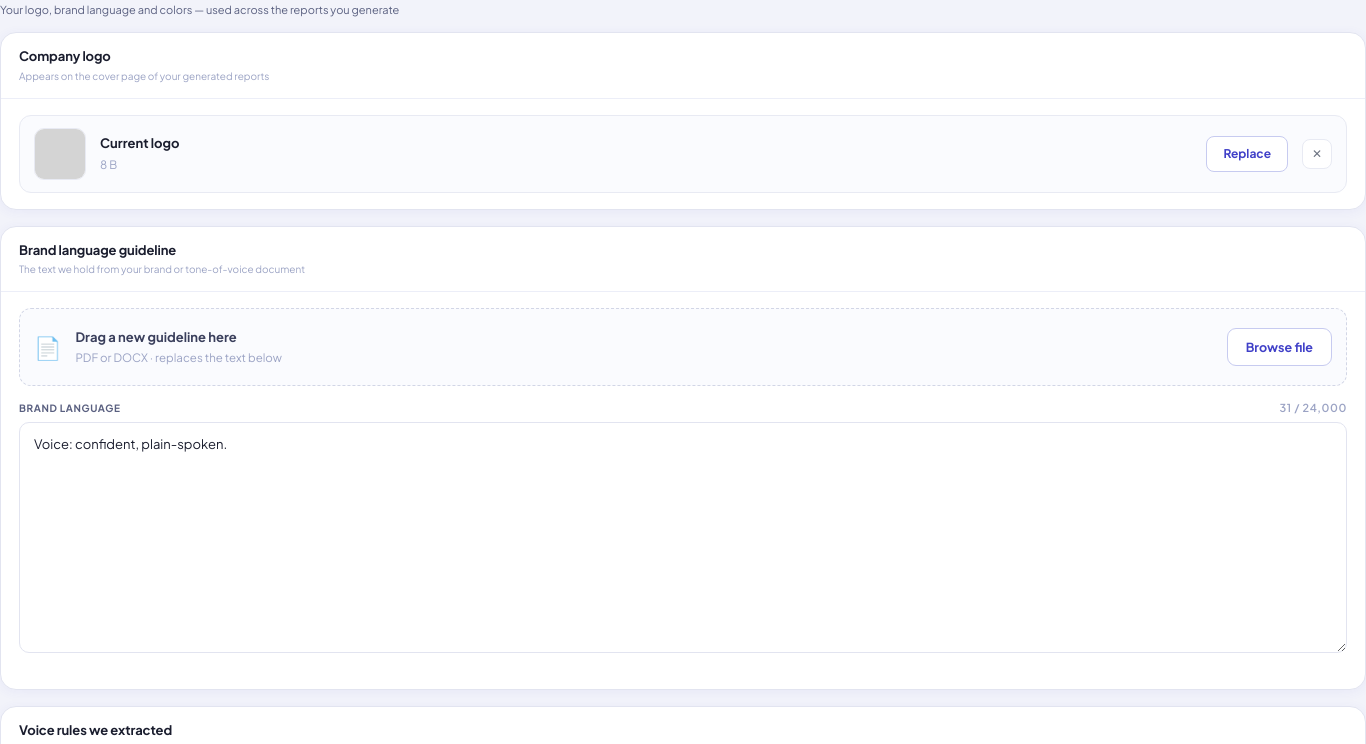
Test: Brand Identity page — the save payload › keeps Save disabled until something actually changes
Replace the text in the text box with placeholder "Upload a document above, or write your brand language here." with "Voice: warm.": (683, 538) [19, 422, 1347, 654]
(page scrolled)
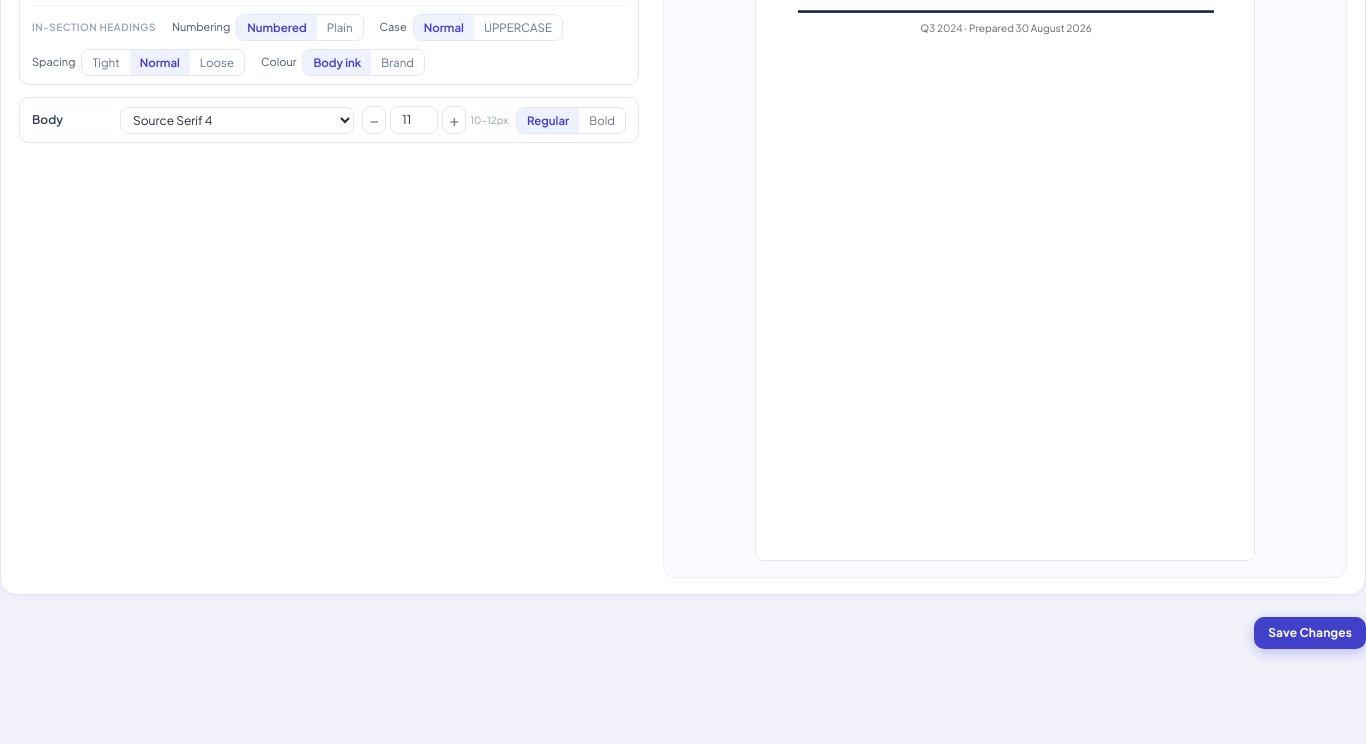
Expected: the button "Save Changes" is enabled, [1254, 616, 1365, 648]
